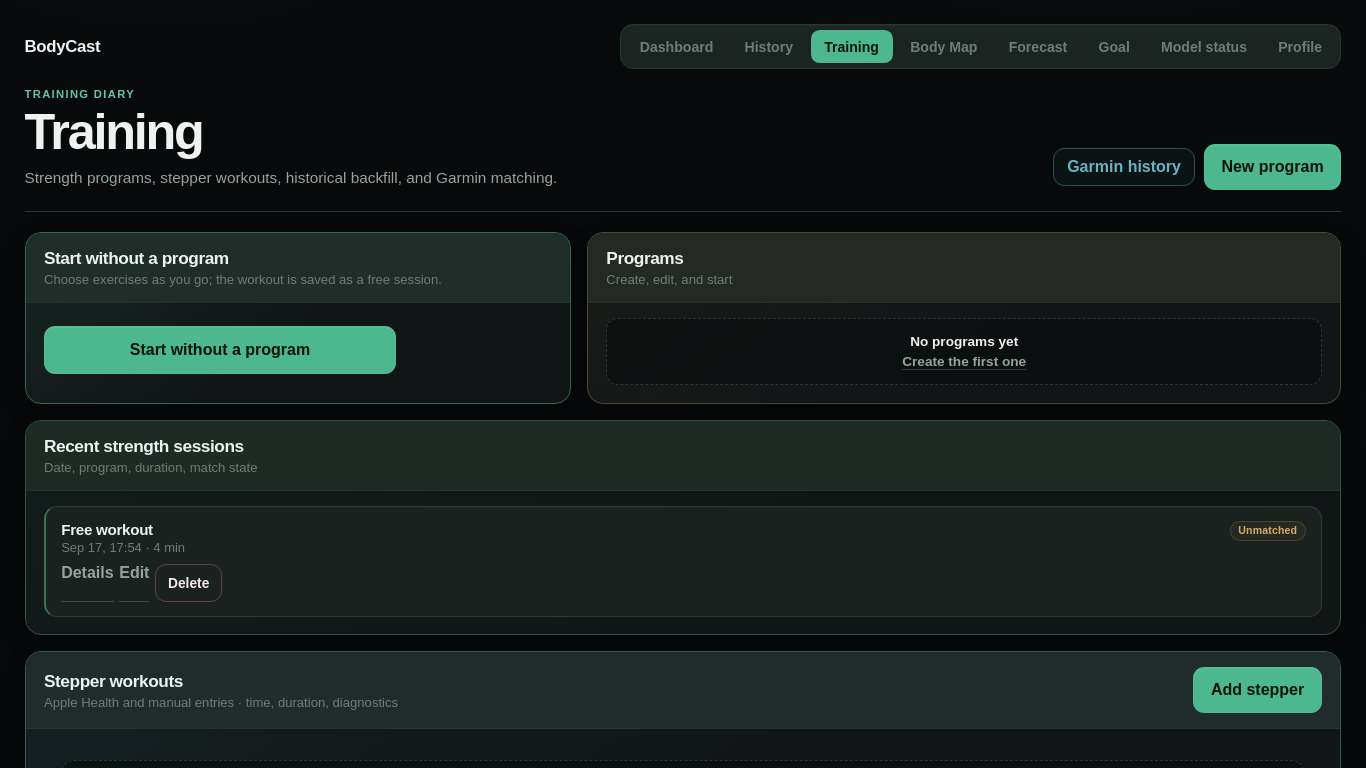
Test case: Training hub UI › deletes a completed diary session after explaining cascaded diary data and refreshes immediately
expect the text "Free workout" is shown: met, box [61, 521, 153, 538]
What coordinates should you click on to do the following:
click the button "Delete"
I would click on:
 (189, 583)
Its box is [155, 564, 222, 602].
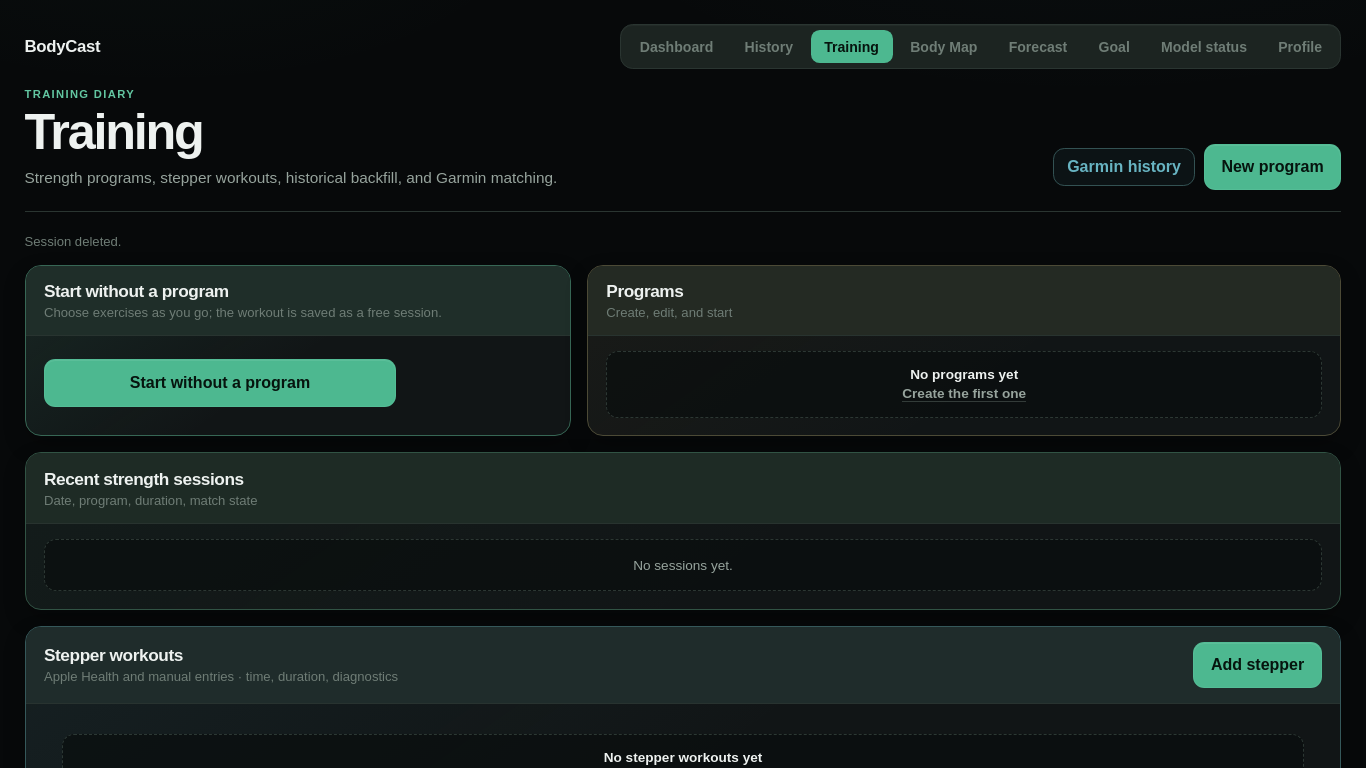
expect the text "Free workout" is gone: met
expect the text "No sessions yet." is shown: met, box [633, 558, 733, 573]
expect the message reads "Session deleted.": met, box [25, 234, 122, 249]
